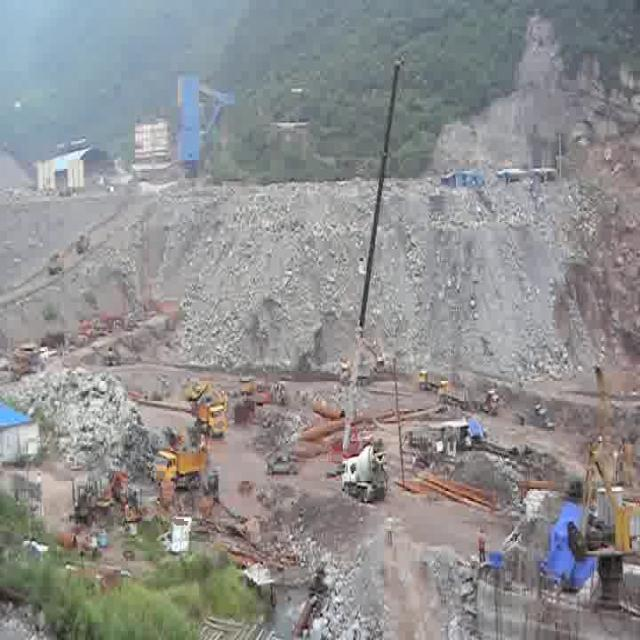crane: (325, 61, 399, 475)
truck: (151, 447, 208, 488), (192, 399, 228, 435), (436, 379, 470, 408), (417, 367, 443, 392)
